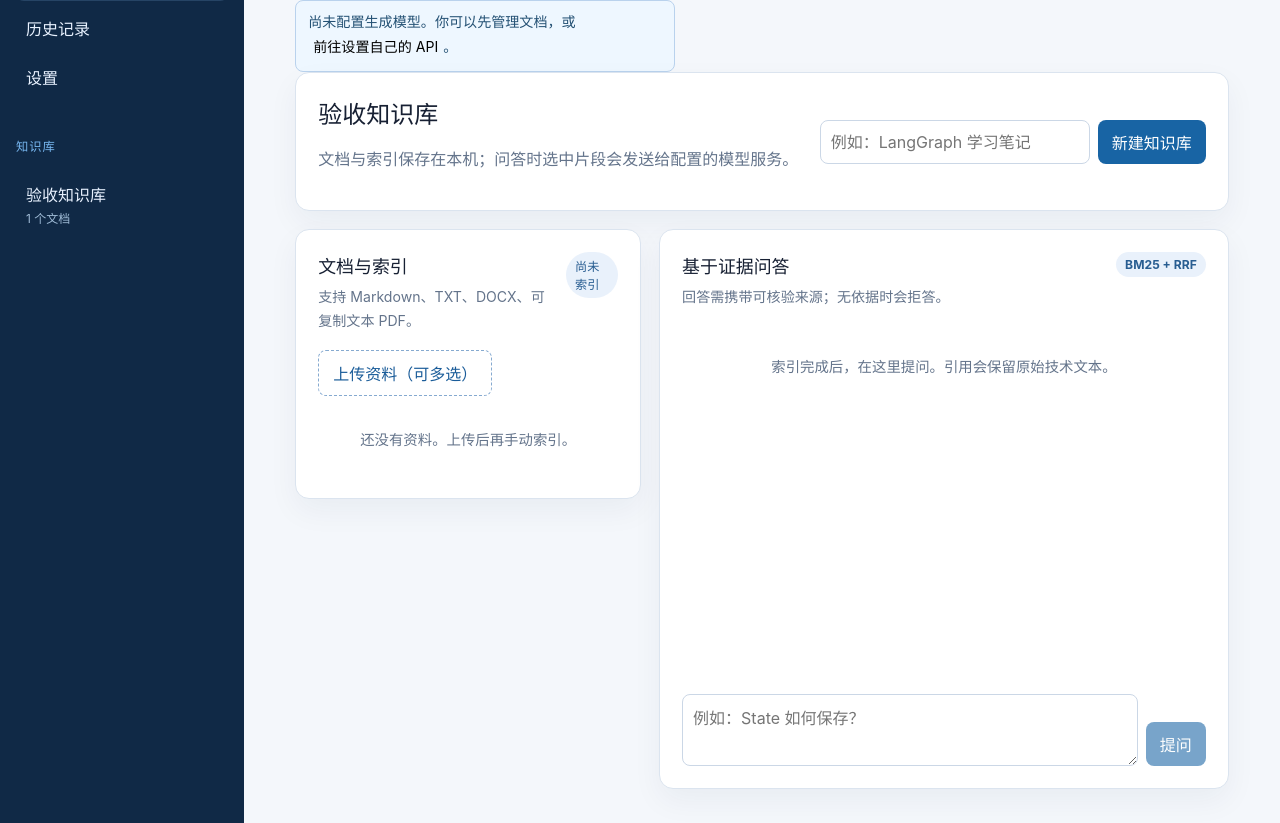
Test: App › only displays sources cited by the completed answer
(page scrolled)
Type "状态如何保存？" into the text box named "问题" at (910,730), box [682,694,1138,766]
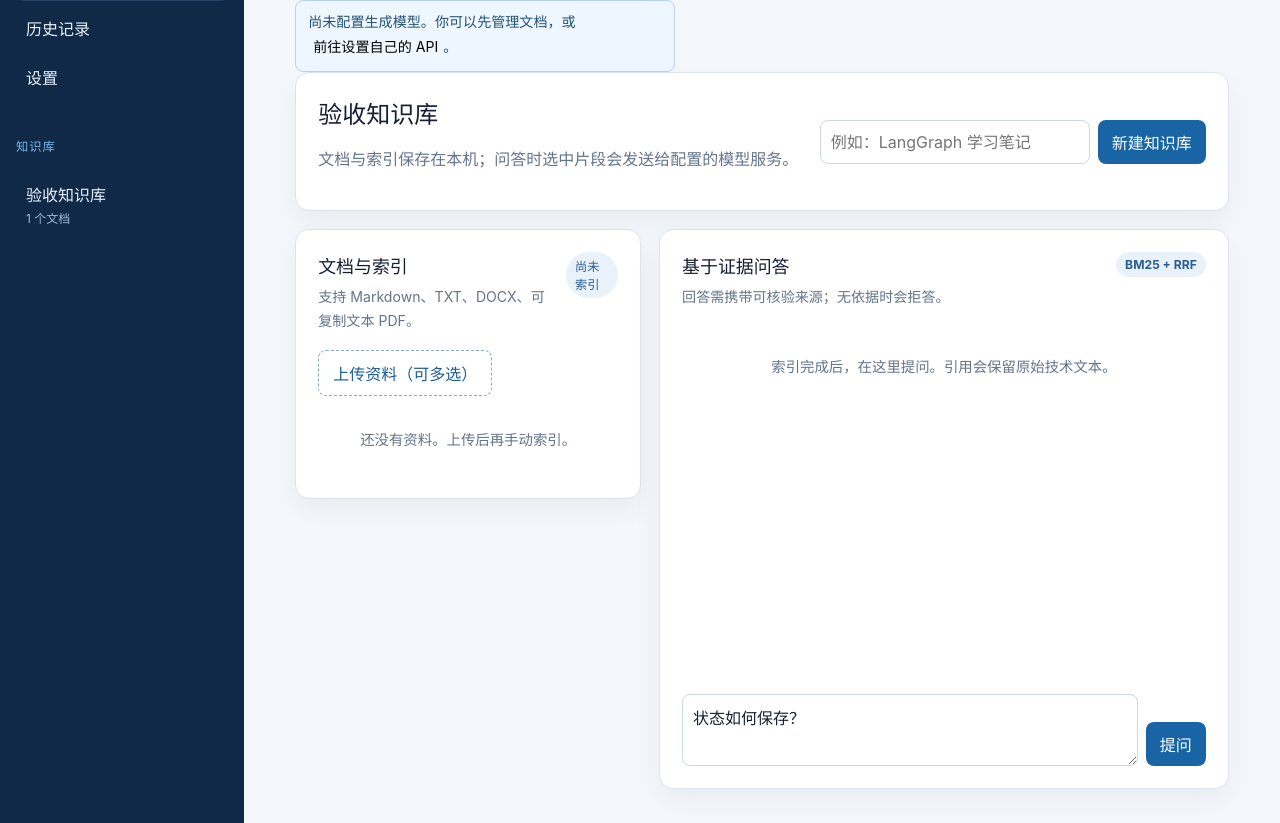
Click the button "提问" at (1176,744), box [1146,722,1206,766]
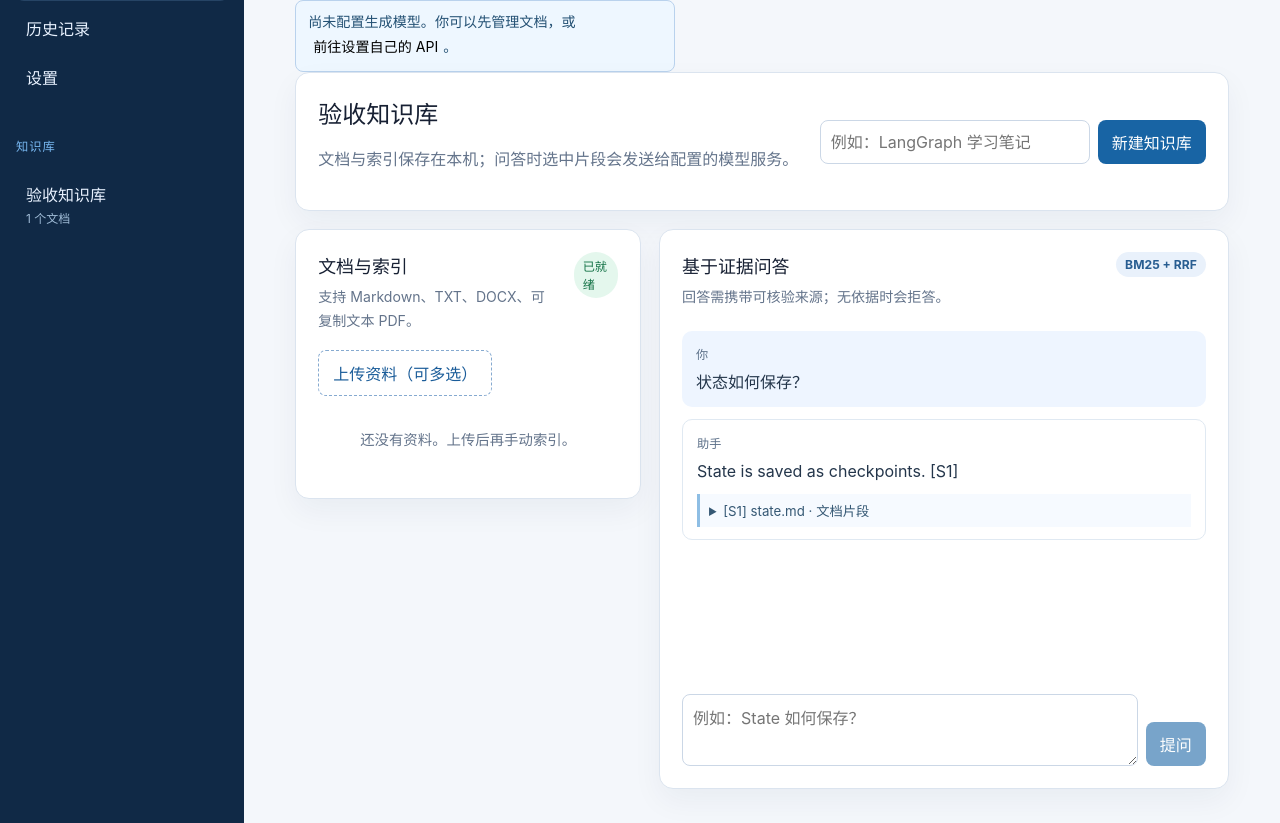
Result: the heading "[S1] state.md · 文档片段" is shown at [723,503,869,519]
